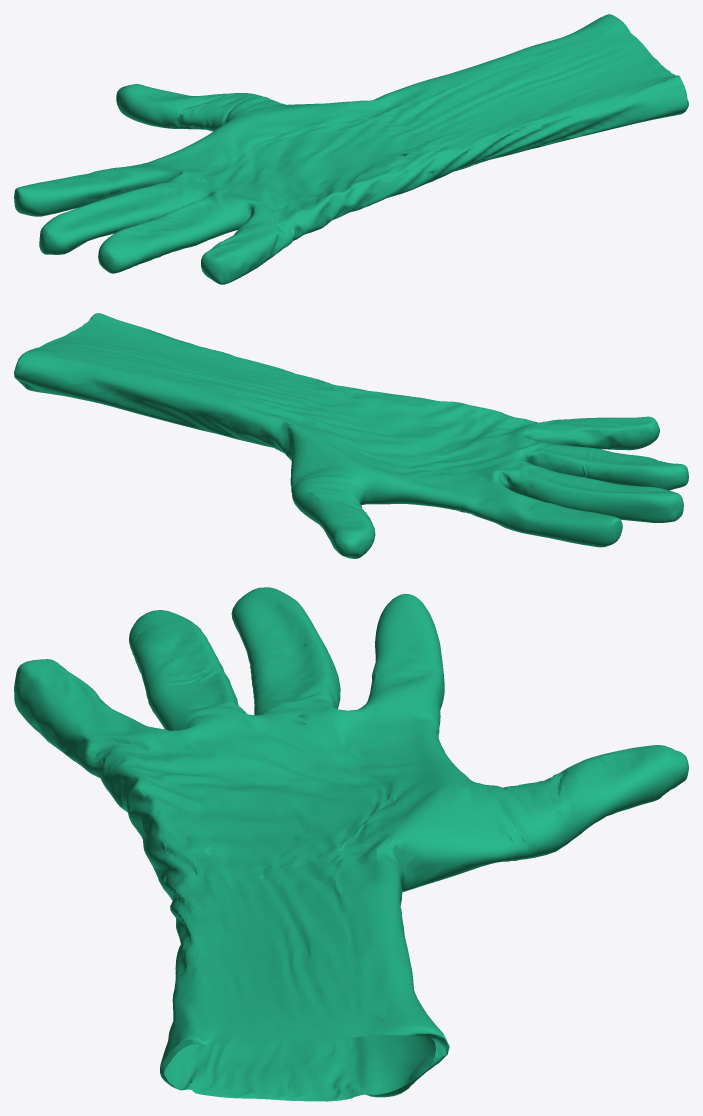
File: rubber gloves.fbx
3 views of the same model, one above another, from view 1: azimuth 30°, elevation 25°; view 2: azimuth 150°, elevation 25°; view 3: azimuth 270°, elevation 25° (orthographic). The views are drawn at different scales.
Parts seen in each view (by area): view 1: Object_0; view 2: Object_0; view 3: Object_0.
Part boxes in pixels (x1,y1,x2,y2): Object_0: (14,14,688,284); Object_0: (14,313,688,558); Object_0: (14,587,688,1101).
Bounding box in the file's own units: 49895 × 4258 × 28763.
